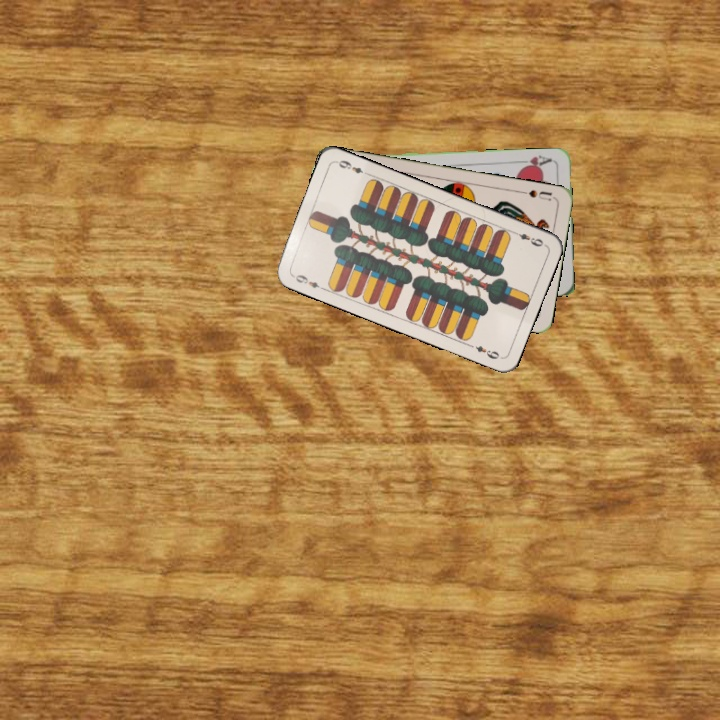E9: (288, 271, 327, 293), (509, 227, 546, 249)
HA: (514, 151, 554, 172)
SU: (517, 186, 554, 203)
